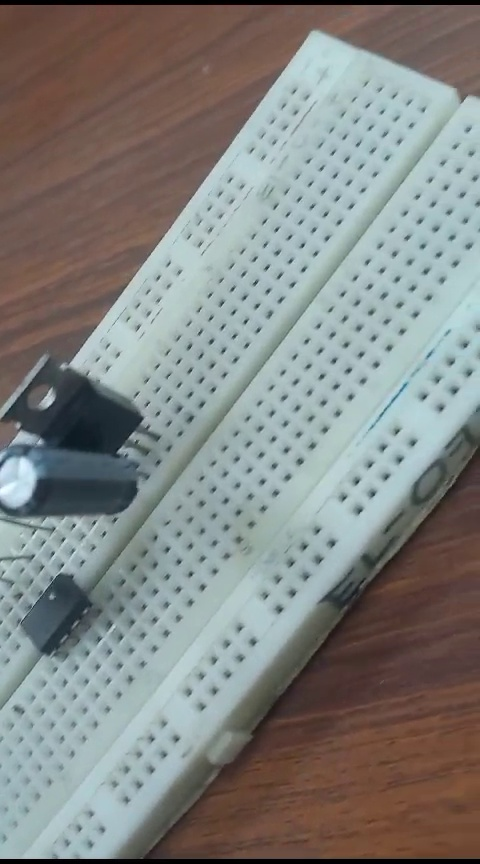IC: (8, 581, 98, 637)
capacitor: (6, 435, 146, 512)
voltage regulator: (3, 347, 156, 451)
